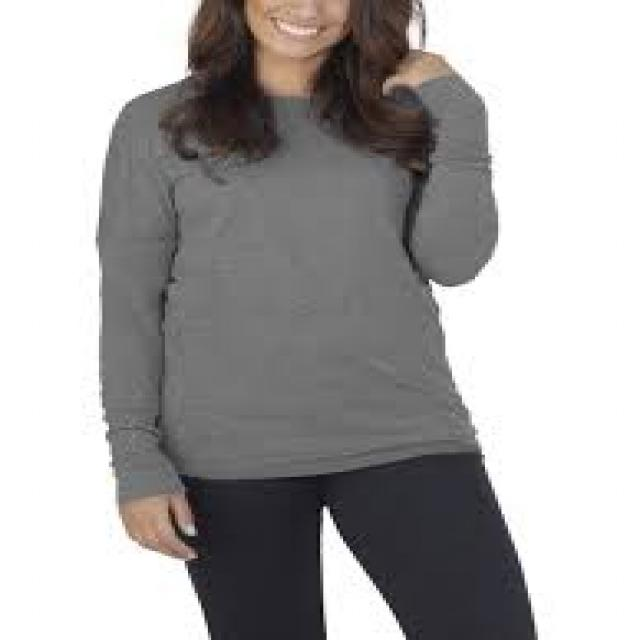plain: (70, 58, 514, 487)
